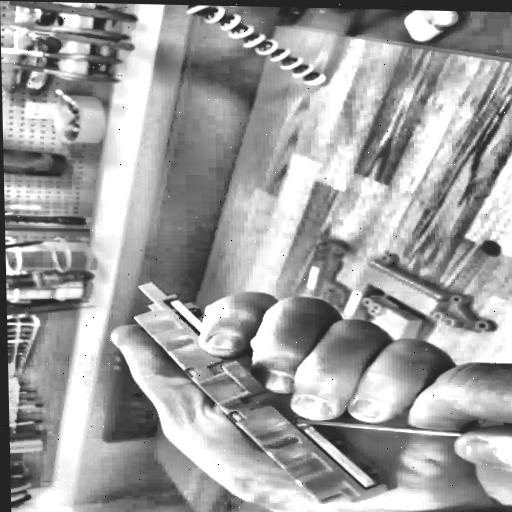busbar: (133, 280, 396, 504)
